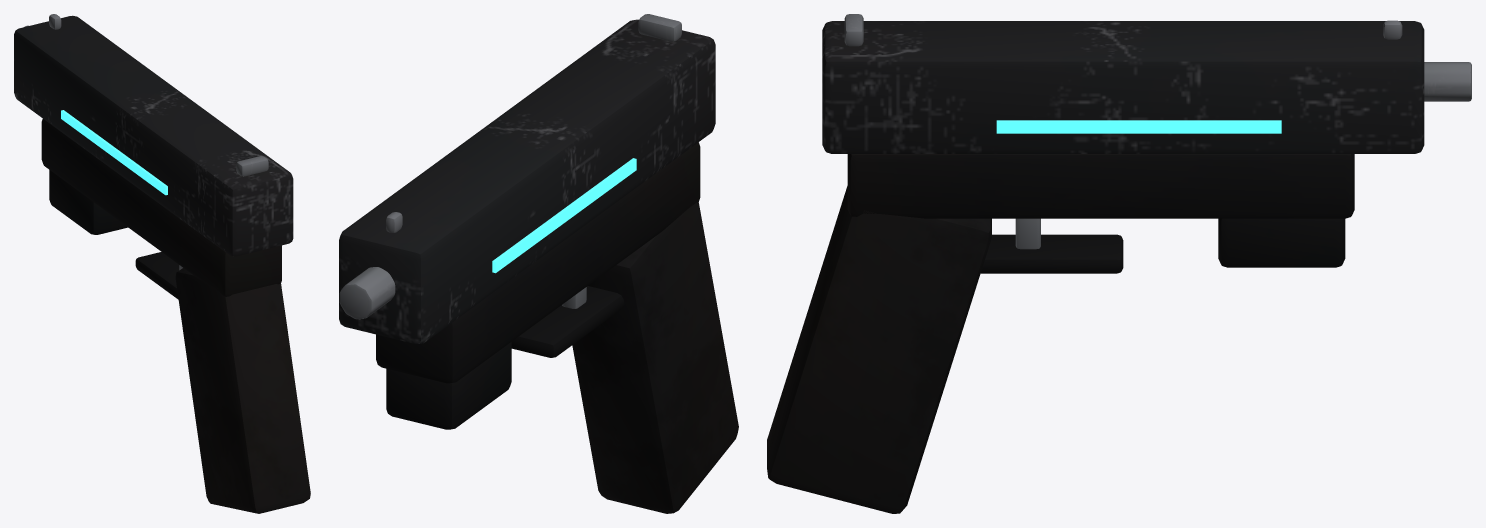
The model's file is service_pistol.glb.
The picture shows the model from 3 angles, left to right: view 1: azimuth 30°, elevation 25°; view 2: azimuth 150°, elevation 25°; view 3: azimuth 270°, elevation 25°; orthographic projection. The views are drawn at different scales.
Visible parts, largest first — view 1: service_pistol; view 2: service_pistol; view 3: service_pistol.
Boxes of the visible parts, <box> form: service_pistol: <box>14,14,310,513</box>; service_pistol: <box>339,14,738,513</box>; service_pistol: <box>767,14,1471,513</box>.
Bounding box in the file's own units: 0.0345 × 0.1662 × 0.2225.
Materials: 1 (1 with a texture image).
